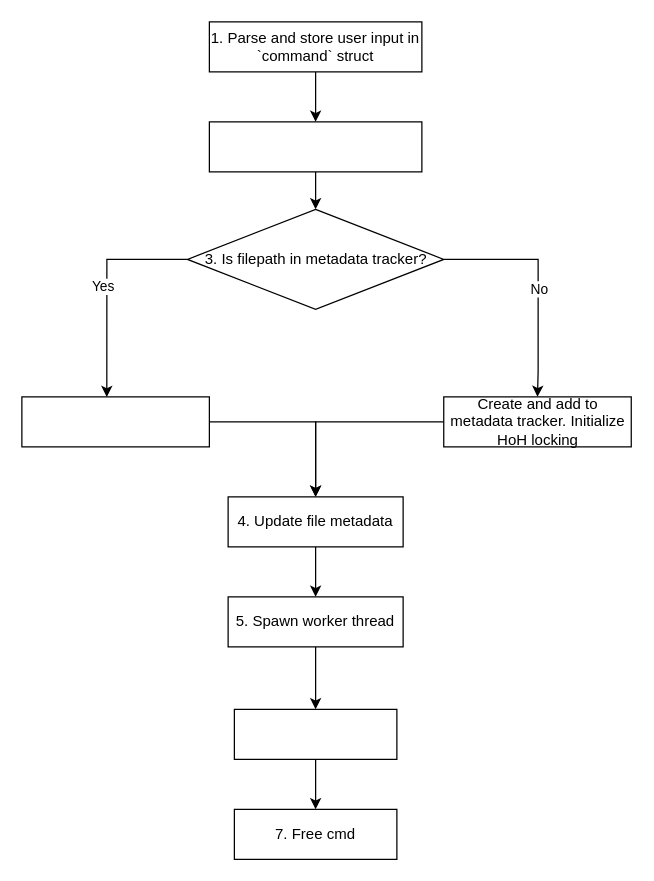
This 654x881 diagram has some shape labels left out. The shapes that lost their labels are listed below. From the top down, each one's centre as x and y in pixels, then its label:
(315,146): 2. Initialize thread arguments
(115,421): Hand over recent lock
(315,733): 6. Record command in command.txt
